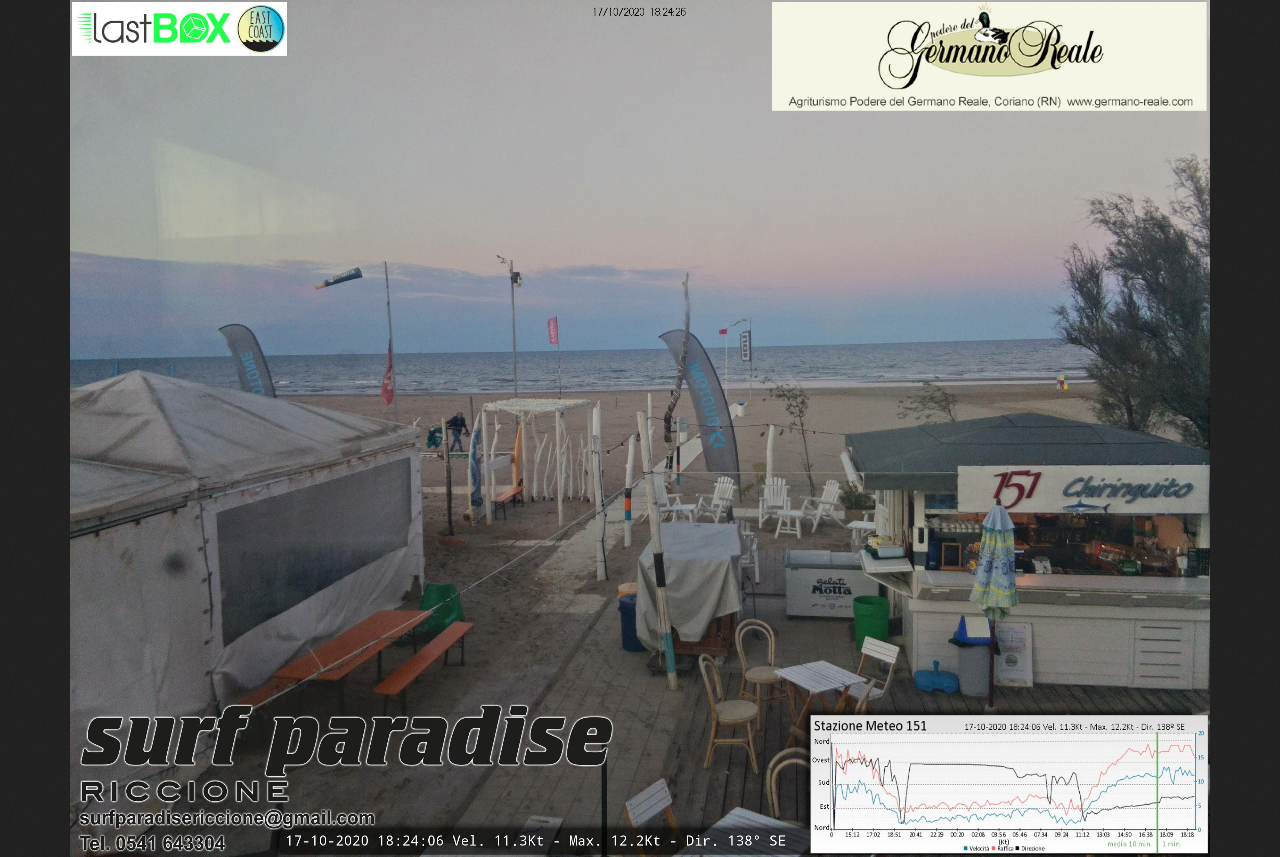yes: (546, 308, 564, 356), (738, 322, 755, 364), (715, 323, 729, 336)
